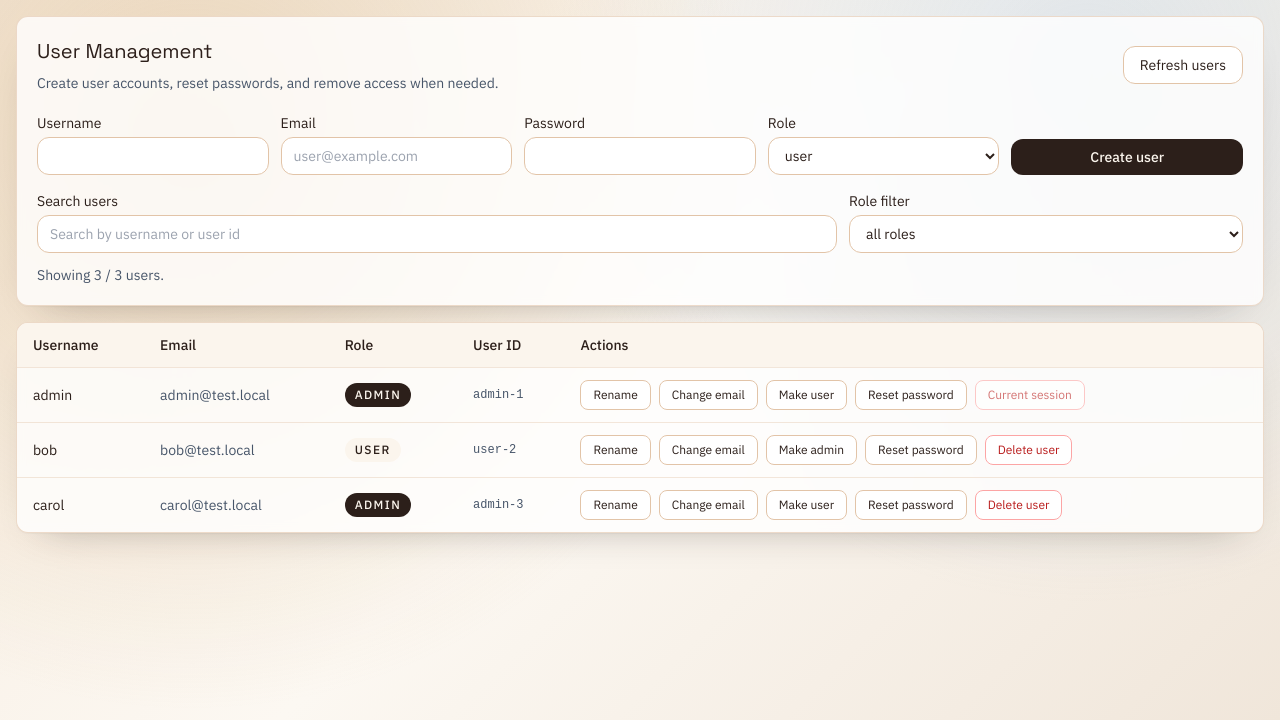
Test case: AdminUsersView › filters users by search text
The image size is (1280, 720).
In the search field with placeholder "Search by username or user id": point(437, 234) [37,215,837,253], type "bob"
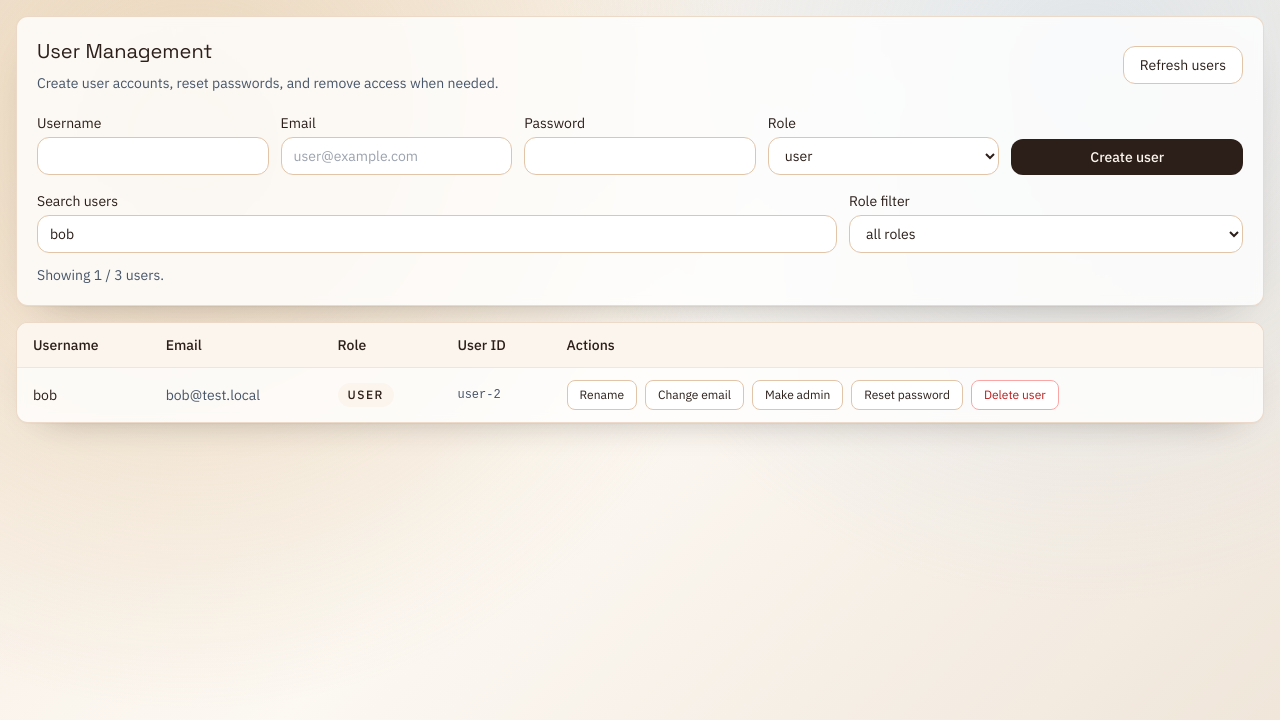
expect the text "Showing 1 / 3 users." is shown: met, box [37,266,164,284]
